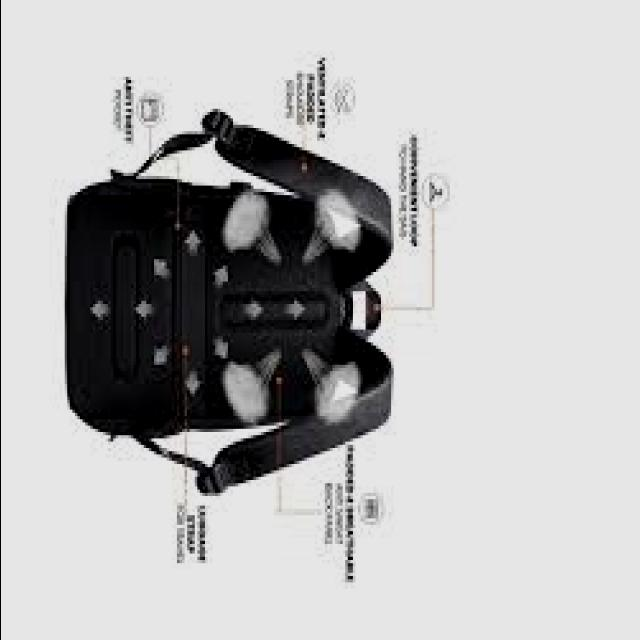backpack: (68, 110, 397, 494)
